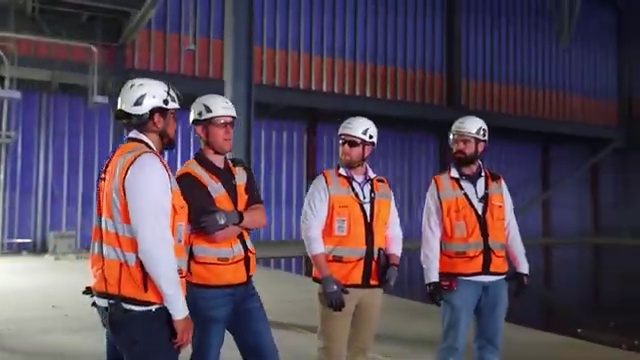helmet: (116, 70, 184, 114), (331, 114, 387, 146), (186, 93, 243, 121), (444, 112, 498, 138)
jacket: (88, 137, 193, 310), (177, 153, 275, 285), (315, 162, 399, 291), (435, 164, 513, 278)
